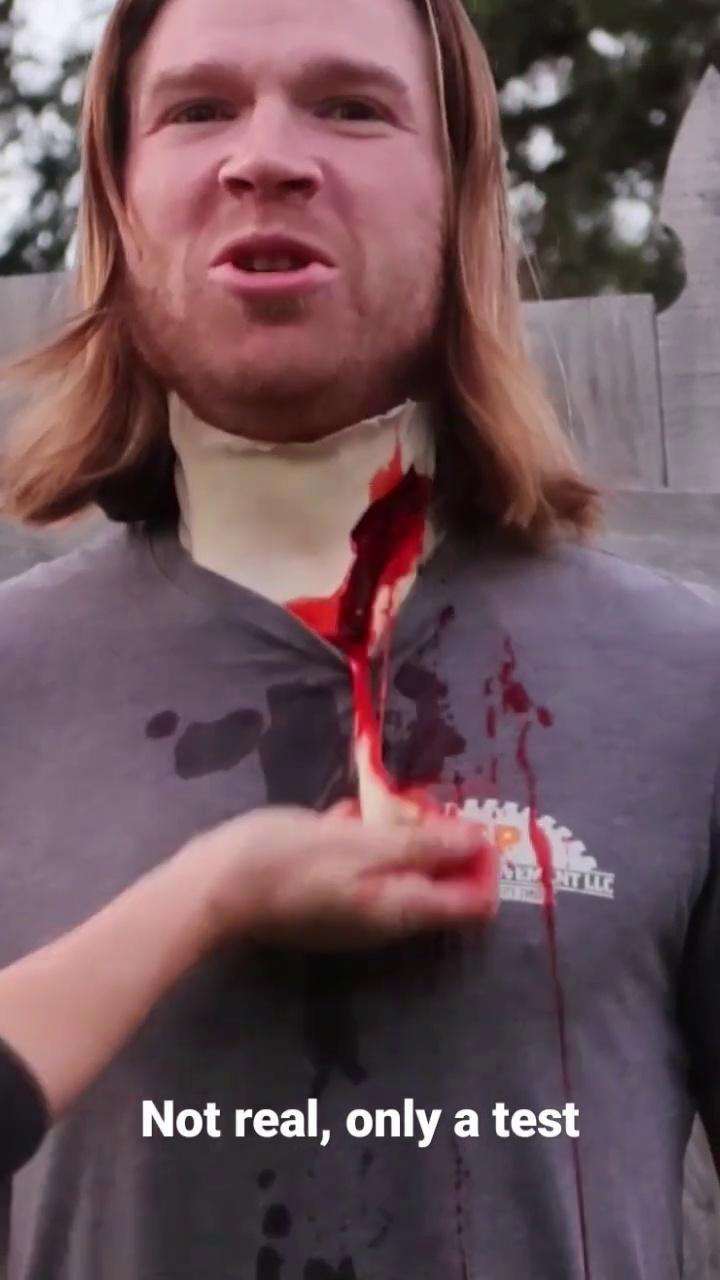Fire: (286, 467, 433, 824), (499, 637, 573, 1104), (387, 661, 467, 788), (564, 1106, 591, 1280), (494, 822, 512, 900)
